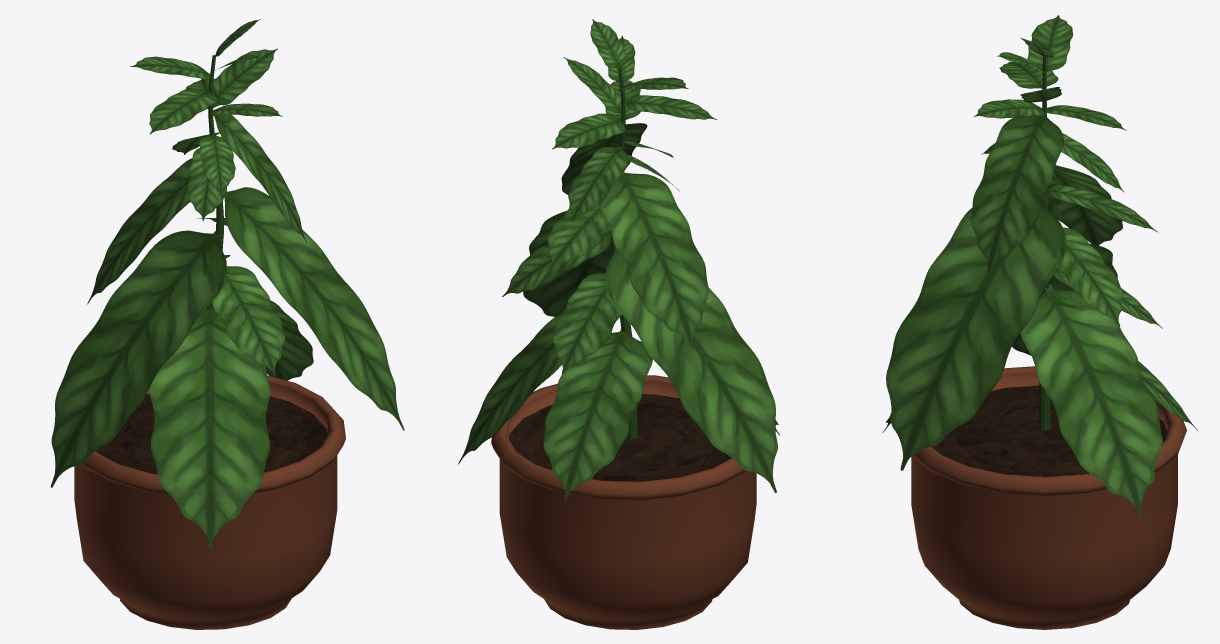
Rendered from vaso-alto.glb.
3 renders of one model, left to right at view 1: azimuth 30°, elevation 25°; view 2: azimuth 150°, elevation 25°; view 3: azimuth 270°, elevation 25°, orthographic. The views are drawn at different scales.
Visible parts, largest first — view 1: polySurface4; view 2: polySurface4; view 3: polySurface4.
Boxes of the visible parts, x1=… form: polySurface4: x1=50, y1=19, x2=404, y2=629; polySurface4: x1=458, y1=19, x2=780, y2=629; polySurface4: x1=882, y1=15, x2=1197, y2=629.
Size of the model in its own units: 3.72 by 6.14 by 3.48.
Materials: 2 (2 with a texture image).
